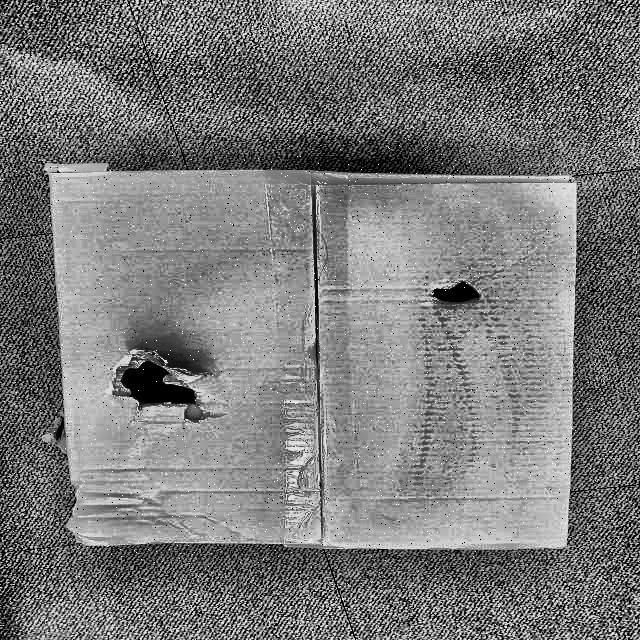box: (45, 160, 584, 553)
hole: (108, 348, 229, 416), (410, 273, 500, 311)
